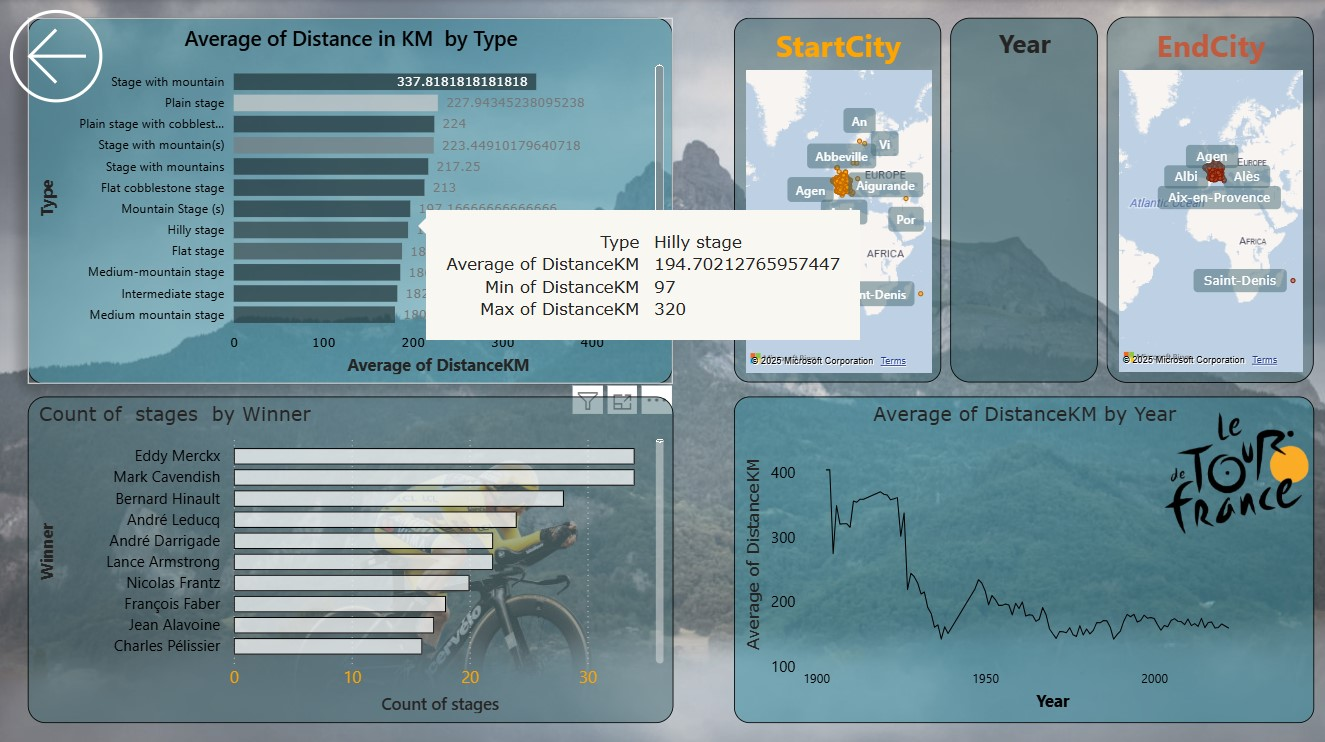

This screenshot's page, from the dashboard's own definition file:
{"tool":"powerbi","page":{"name":"stages ","canvas":[1280,720],"ordinal":5},"visuals":[{"type":"barChart","title":"Average of Distance in KM  by Type","fields":{"Category":["tdf_stages.Type"],"Y":["Avg(tdf_stages.DistanceKM)"]},"box":[27.7,18.1,622.5,353.5],"z":0},{"type":"lineChart","fields":{"Category":["tdf_stages.Year"],"Y":["Avg(tdf_stages.DistanceKM)"]},"box":[709.4,383.6,559.8,314.9],"z":1000},{"type":"map","fields":{"Category":["tdf_stages.StartCity"]},"box":[709.4,18.1,200.3,352.3],"z":2000},{"type":"map","fields":{"Category":["tdf_stages.EndCity"]},"box":[1068.9,16.9,200.3,353.5],"z":3000},{"type":"listSlicer","fields":{"Values":["tdf_stages.Date.Variation.Date Hierarchy.Year","tdf_stages.Date.Variation.Date Hierarchy.Month","tdf_stages.Date.Variation.Date Hierarchy.Day"]},"box":[918.1,18.1,142.4,352.3],"z":4000},{"type":"clusteredBarChart","fields":{"Y":["CountNonNull(tdf_stages.Type)"],"Category":["tdf_stages.Winner"]},"box":[28,384,623,315],"z":5000},{"type":"image","box":[1109.3,372.2,170.9,169.7],"z":6000},{"type":"actionButton","box":[0,0,149.1,110.3],"z":7000}]}

Visuals, with their boxes in screenshot pixels (x1, y1, x2, y2), scaled from the page's 1280x720 canvas onto the 1325x742 screenshot:
"Average of Distance in KM  by Type" barChart: 29,19,673,383
lineChart - tdf_stages.Year x Avg(tdf_stages.DistanceKM): 734,395,1314,720
map - tdf_stages.StartCity: 734,19,942,382
map - tdf_stages.EndCity: 1106,17,1314,382
listSlicer - tdf_stages.Date.Variation.Date Hierarchy.Year x tdf_stages.Date.Variation.Date Hierarchy.Month: 950,19,1098,382
clusteredBarChart - CountNonNull(tdf_stages.Type) x tdf_stages.Winner: 29,396,674,720
image: 1148,384,1324,558
actionButton: 0,0,154,114
